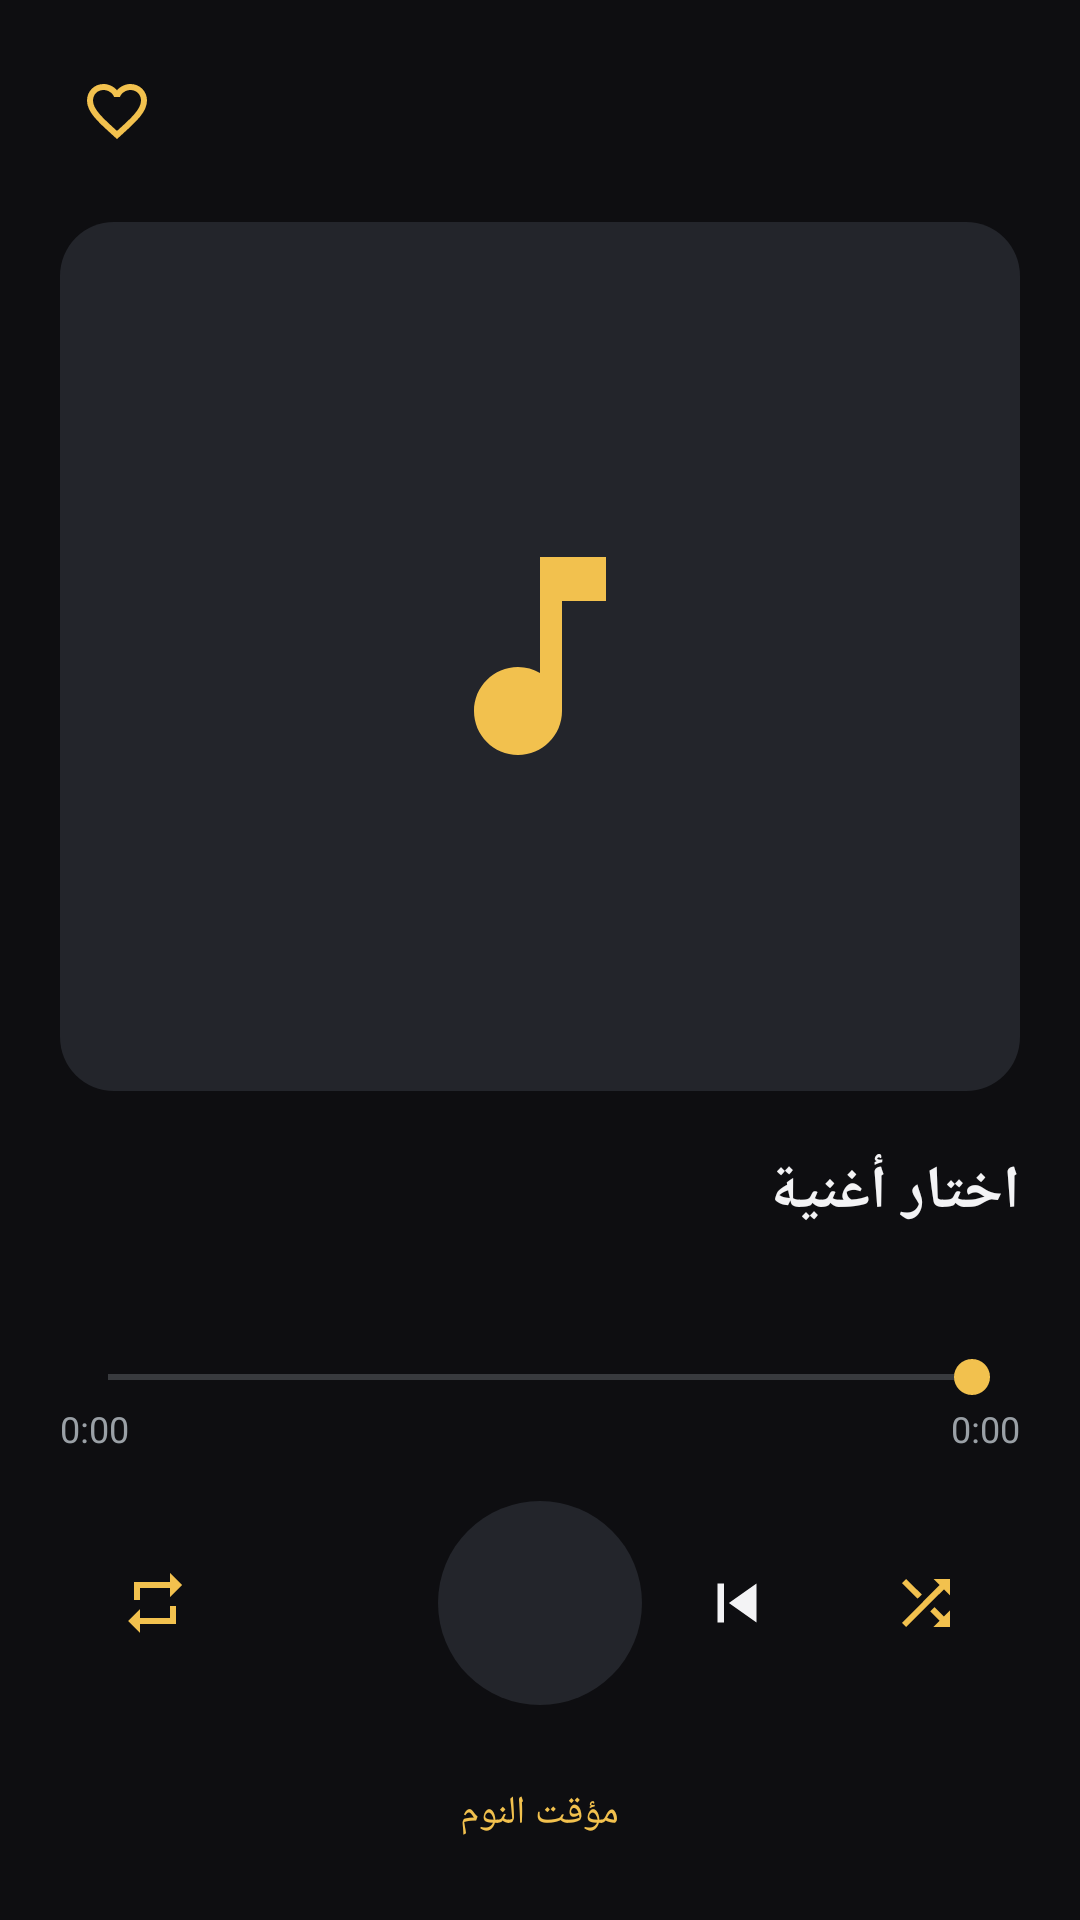

Icon bounding boxes for this 1080 × 1920 phone screenshot, format (x1, y1, x2, y2):
repeat: (128, 1573, 182, 1633)
shuffle: (902, 1579, 950, 1627)
السابق: (717, 1583, 757, 1623)
اللي بيتشغّل: (474, 557, 606, 755)
ضيف للمفضلة: (87, 84, 147, 139)
